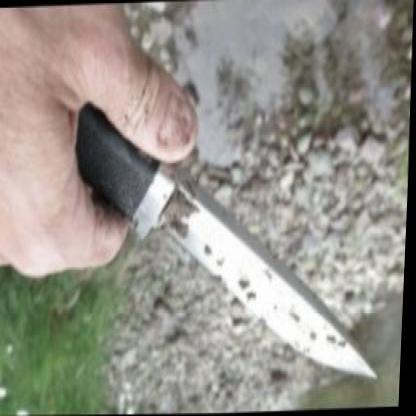knife: (51, 42, 400, 402)
